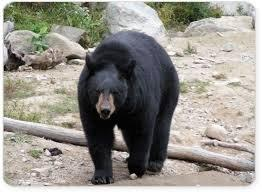bear: (76, 30, 180, 184)
